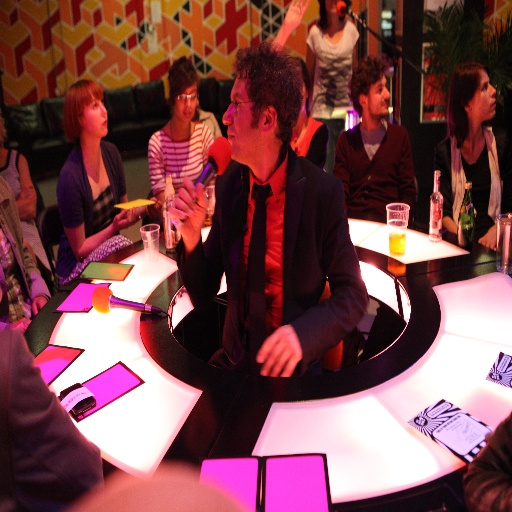hand: (167, 176, 209, 244), (261, 329, 306, 378), (111, 204, 138, 232), (476, 221, 500, 252), (146, 197, 165, 221), (29, 295, 48, 316), (10, 316, 31, 333)
